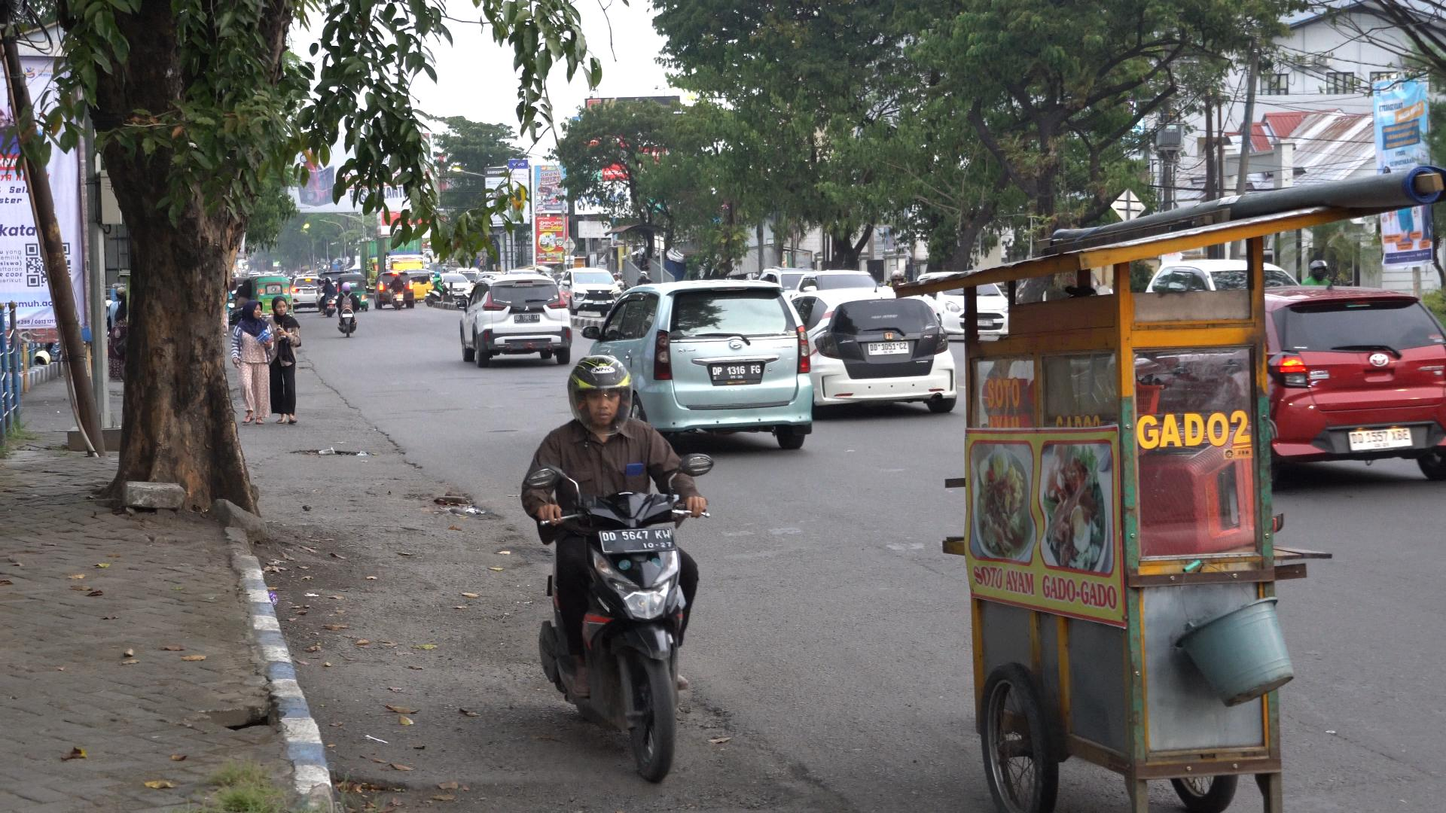number-plate: (596, 524, 676, 557)
